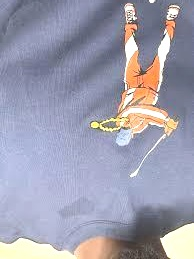oil: (60, 194, 94, 220)
